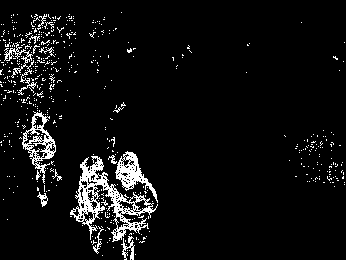person: (111, 150, 158, 260), (73, 155, 114, 255), (21, 112, 62, 210)
